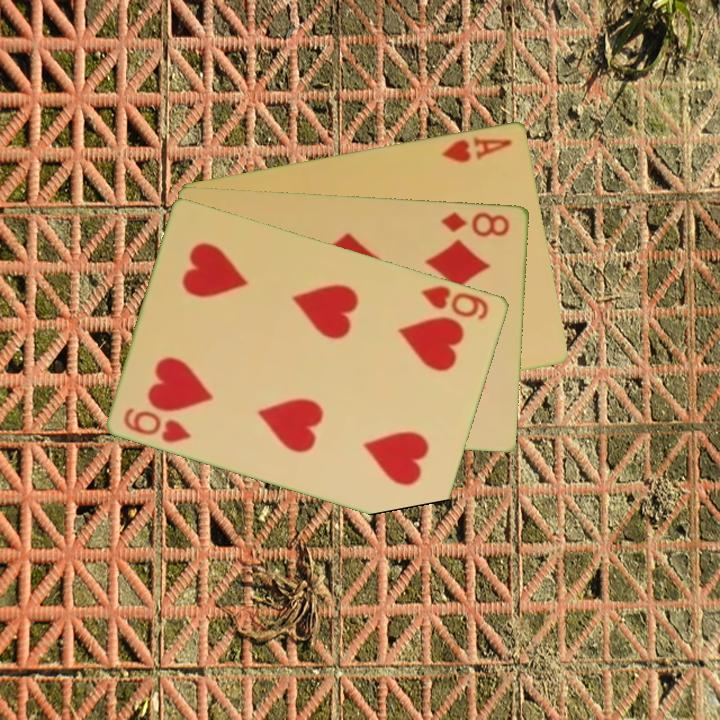6h: (120, 404, 195, 446), (418, 281, 492, 323)
8d: (437, 208, 513, 240)
Ah: (439, 132, 515, 165)
